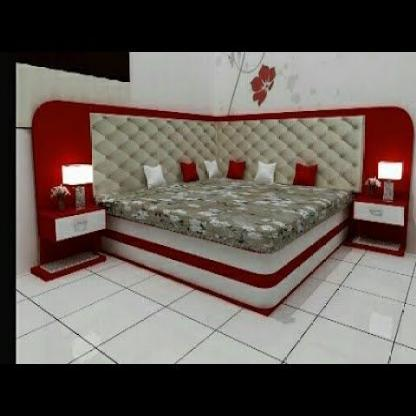bed: (29, 100, 405, 298)
light: (49, 149, 102, 207), (376, 158, 405, 204)
table: (37, 204, 111, 284), (353, 196, 410, 258)
